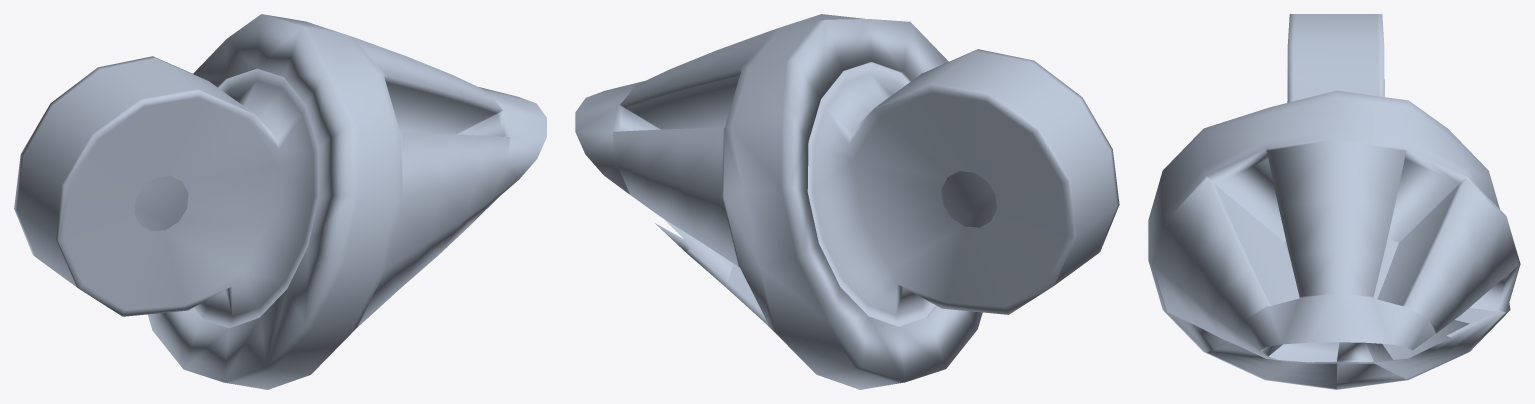
The model's file is rightClavicle.dae.
3 renders of one model, left to right at view 1: azimuth 30°, elevation 25°; view 2: azimuth 150°, elevation 25°; view 3: azimuth 270°, elevation 25°, orthographic. The views are drawn at different scales.
Visible parts, largest first — view 1: Circle_080; view 2: Circle_080; view 3: Circle_080.
Part boxes in pixels (x1,y1,x2,y2): Circle_080: (14, 14, 546, 389); Circle_080: (575, 14, 1119, 389); Circle_080: (1148, 14, 1520, 389).
Bounding box in the file's own units: 3.3 × 2.1 × 2.09.
